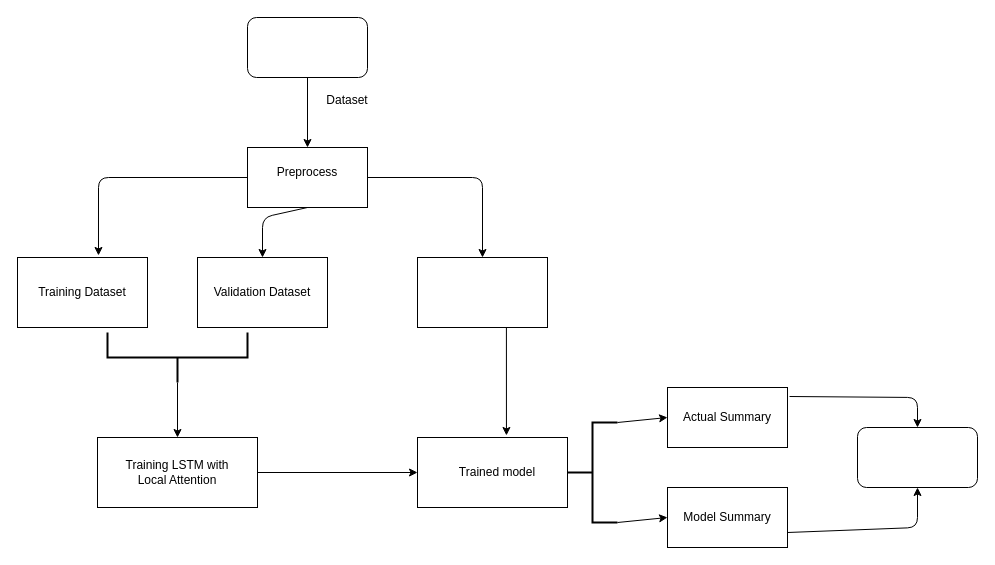
This 995x565 diagram has some shape labels left out. Each missing label, with the centre of its shape:
"End" goes at [917,457].
"Start" goes at [307,47].
"Testing Dataset" goes at [482,292].
